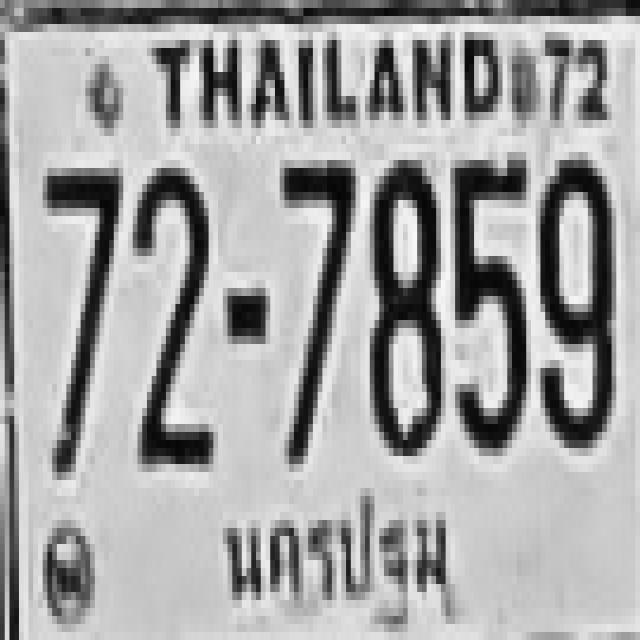2: (130, 160, 207, 464)
5: (448, 152, 524, 448)
7: (43, 160, 119, 472), (280, 152, 351, 456), (43, 160, 119, 408)
8: (368, 152, 438, 448)
9: (536, 152, 612, 440)
NakhonPathom: (213, 483, 457, 637)
